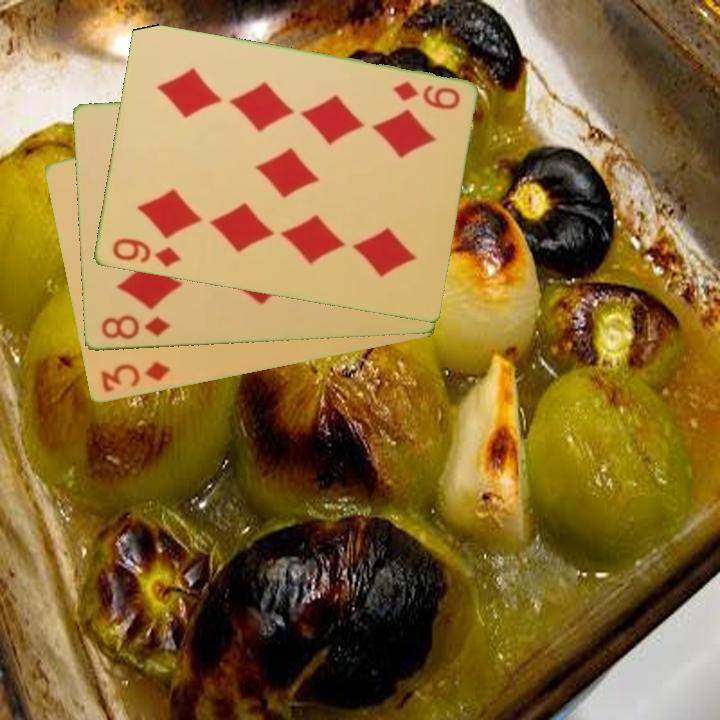3d: (97, 358, 173, 396)
8d: (97, 312, 173, 342)
9d: (108, 235, 184, 270), (389, 78, 463, 113)
